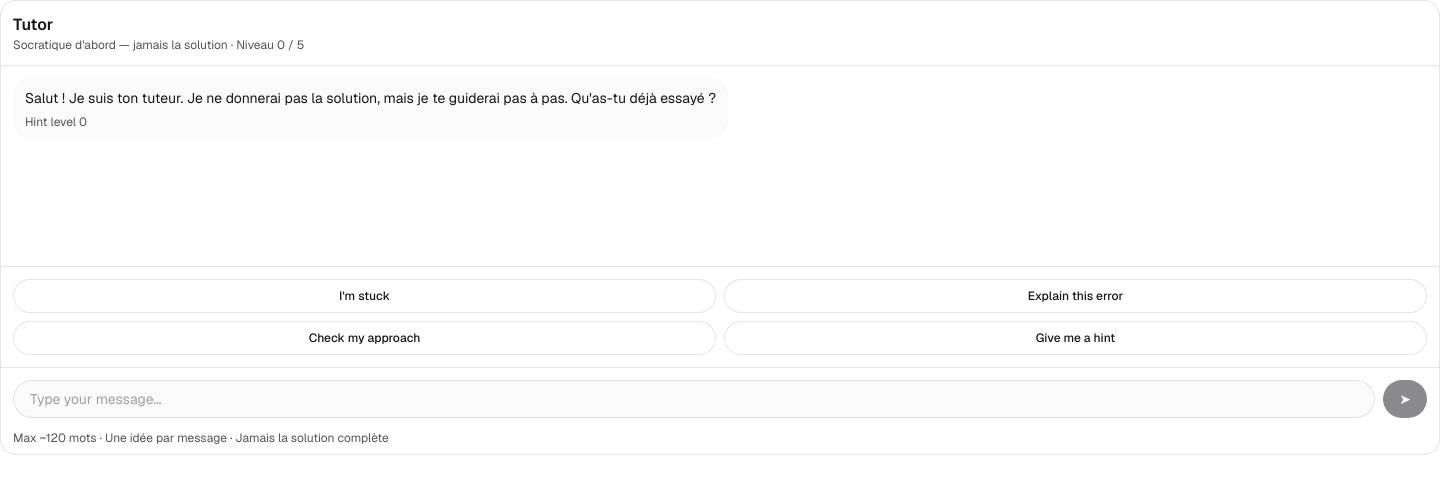
TutorChat › shows offline message on fetch failure
Type "help" into the field with test id "tutor-input".
click(694, 399); type("help")  # box [13,380,1375,418]
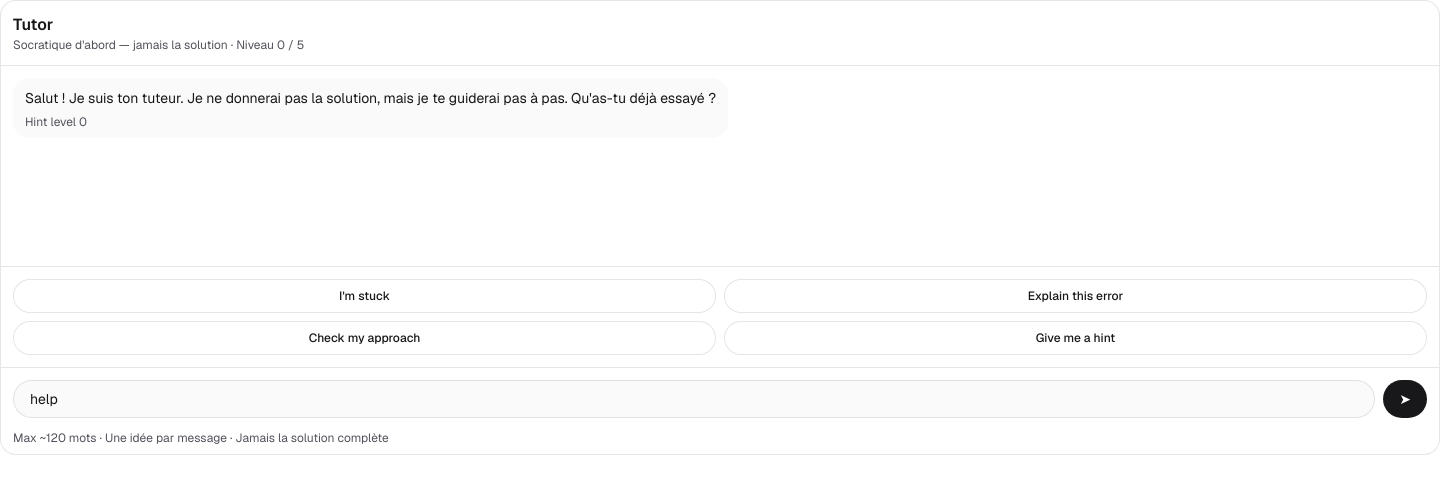
Click the button with test id "tutor-send".
click(1405, 399)  # box [1383,380,1427,418]
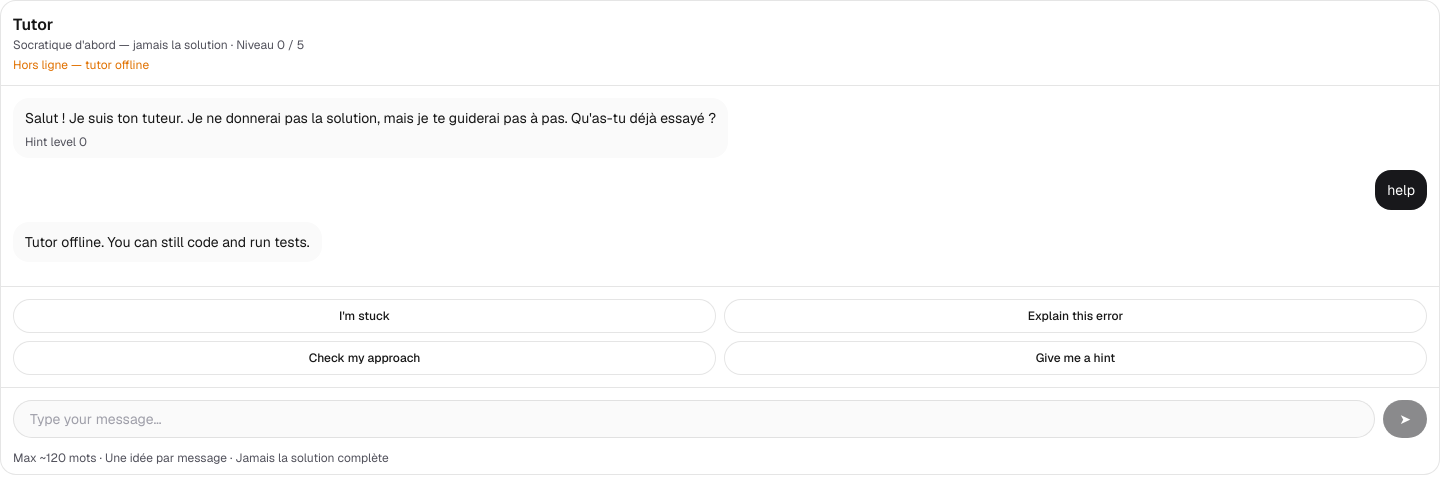
Expected: the text "Tutor offline. You can still code and run tests." is shown, [25,233,310,251]
